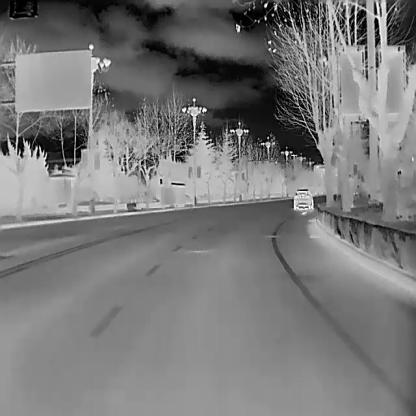car: (292, 186, 312, 209)
